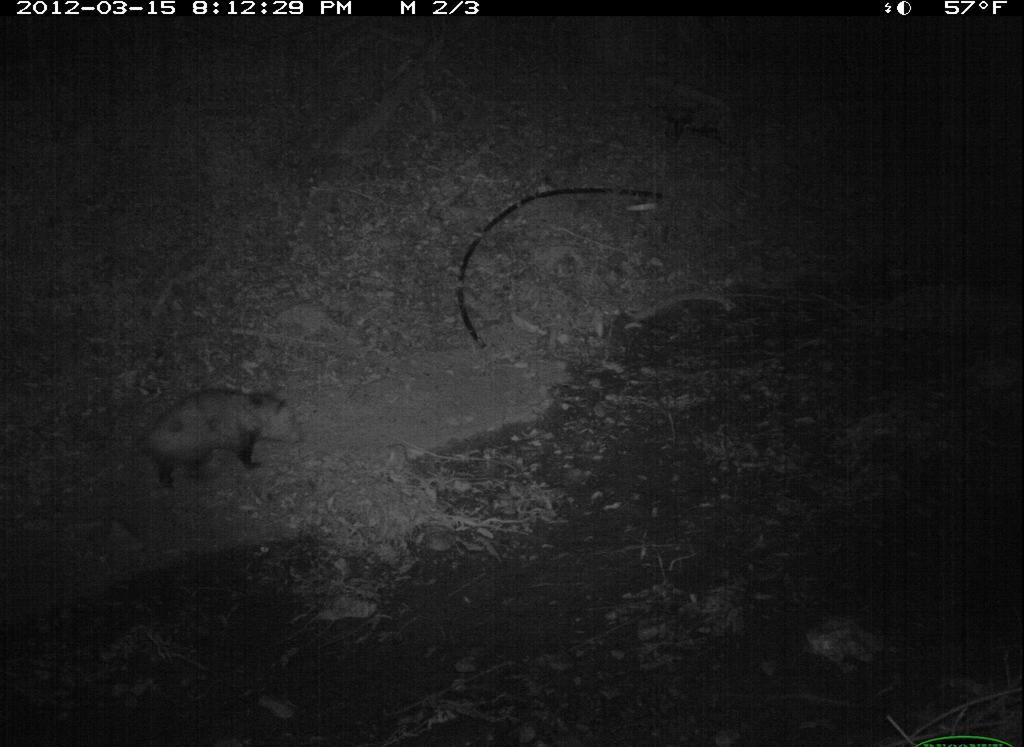opossum: (93, 374, 315, 493)
